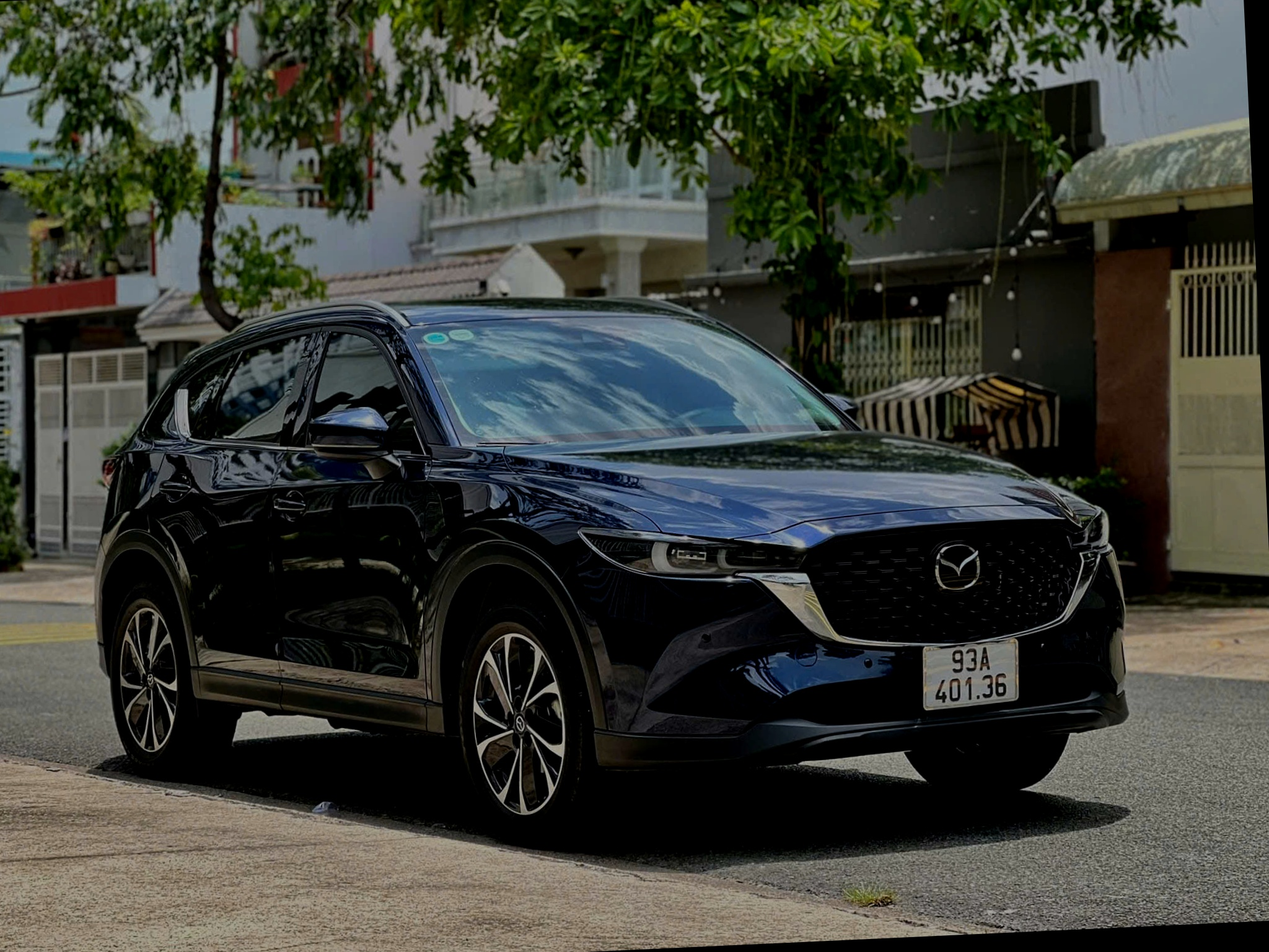Bien-so: (937, 677, 1045, 749)
